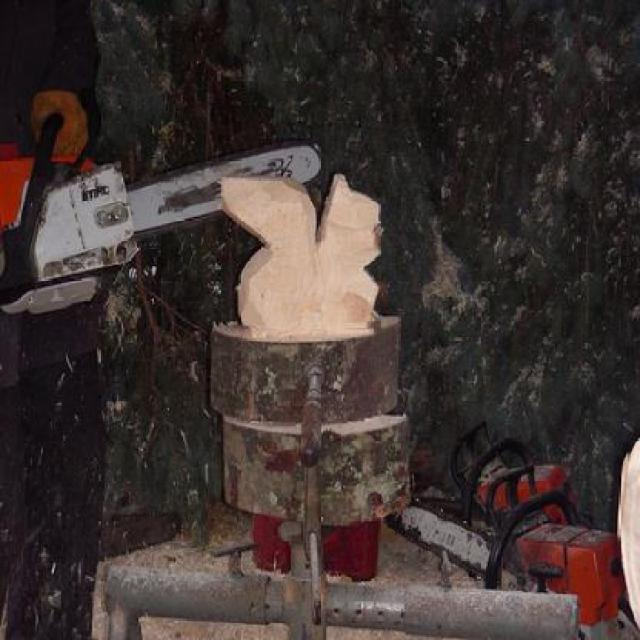Chainsaw: (0, 99, 325, 328), (389, 469, 620, 628)
